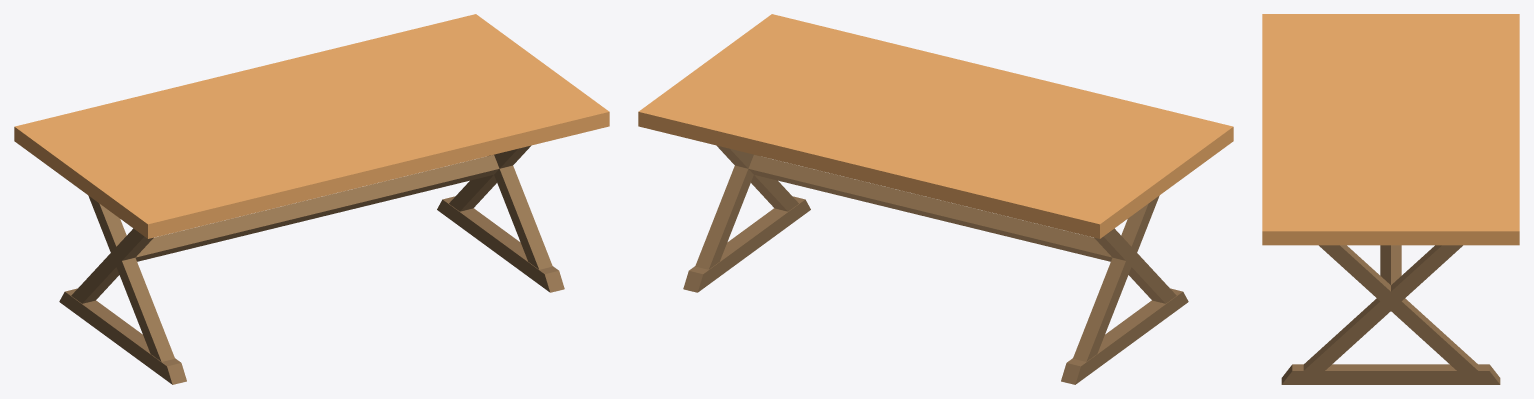
The model's file is Assets.fbx_Table.fbx.
3 renders of one model, left to right at view 1: azimuth 30°, elevation 25°; view 2: azimuth 150°, elevation 25°; view 3: azimuth 270°, elevation 25°, orthographic. The views are drawn at different scales.
Parts seen in each view (by area): view 1: Table; view 2: Table; view 3: Table.
Part boxes in pixels (box(x1,y1,x2,y2)): Table: box(14, 14, 609, 384); Table: box(638, 14, 1233, 384); Table: box(1262, 14, 1519, 384).
Bounding box in the file's own units: 200 × 73.05 × 100.
